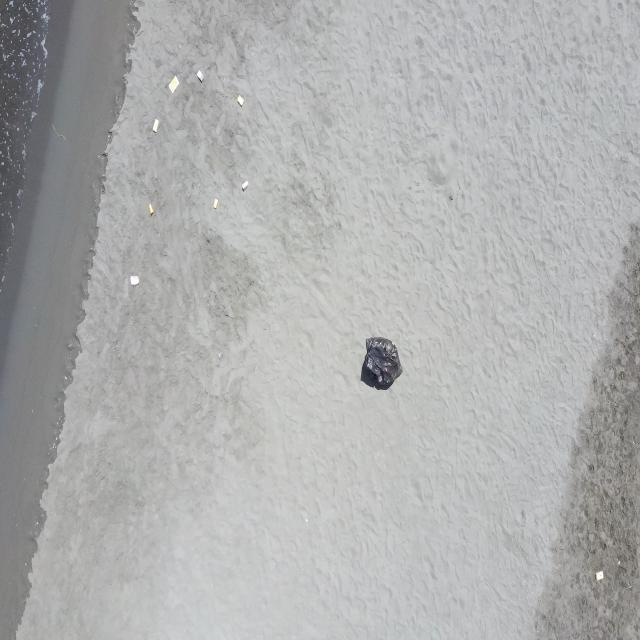Garbage: (360, 336, 400, 387), (51, 123, 64, 140), (167, 75, 179, 92), (152, 118, 159, 131), (129, 275, 138, 284), (196, 70, 203, 81), (148, 203, 154, 215), (595, 571, 603, 580), (240, 180, 247, 190), (236, 95, 243, 105), (212, 199, 218, 207), (218, 352, 221, 357)
